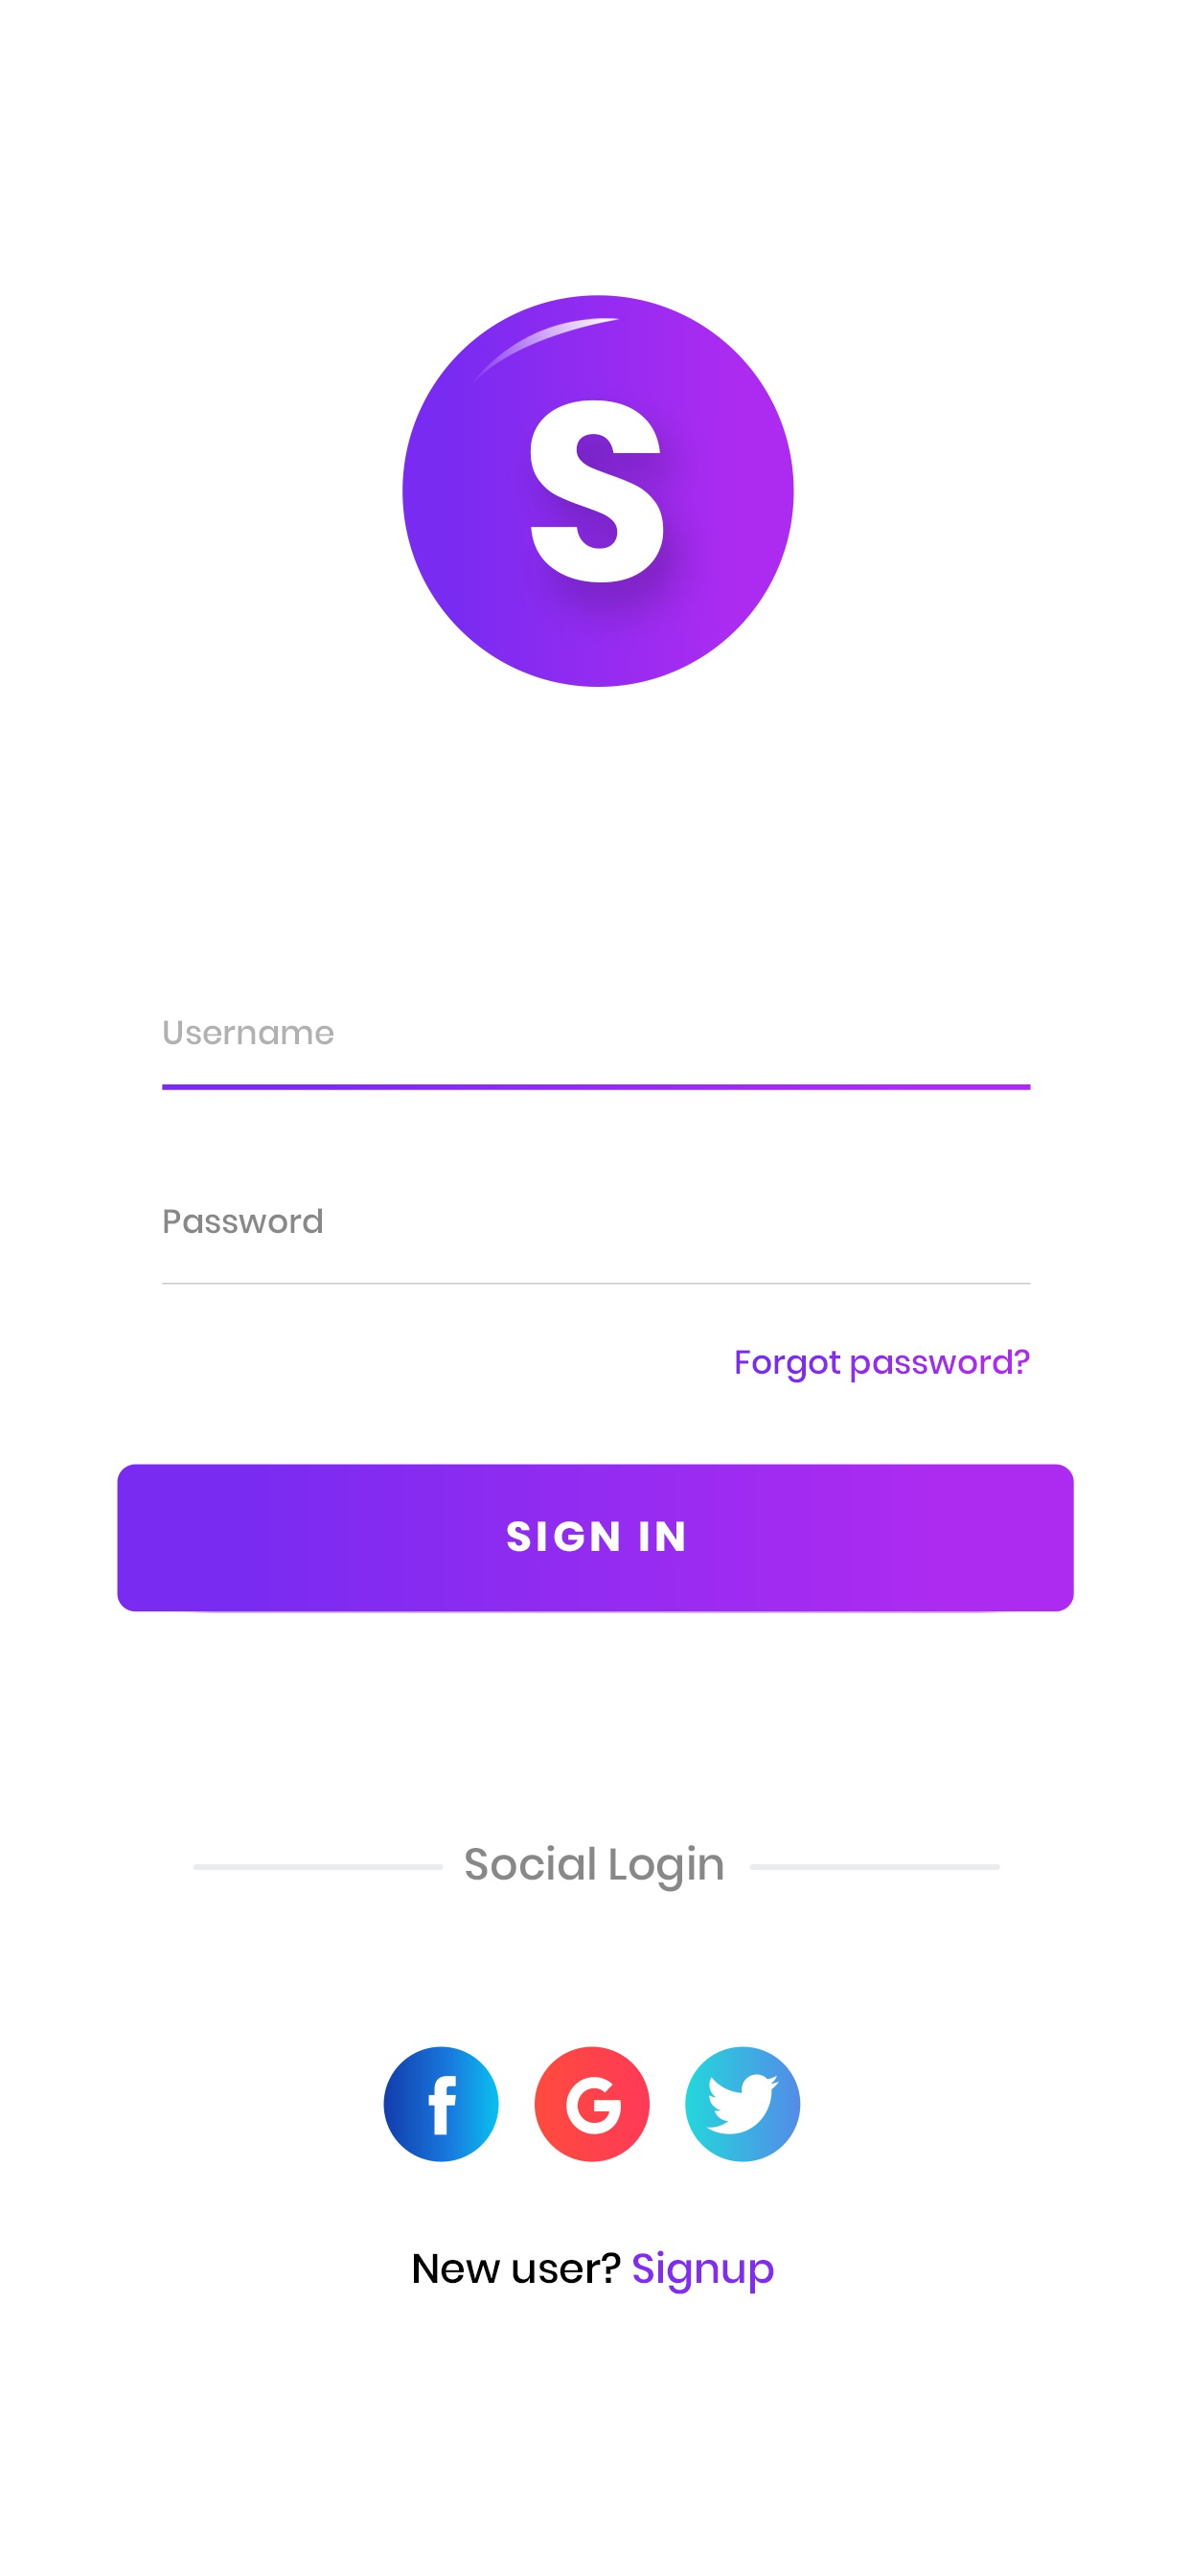EditText: (163, 1207, 1032, 1286), (163, 1019, 1032, 1091)
Icon: (383, 2047, 500, 2164), (534, 2047, 651, 2164), (685, 2047, 800, 2162)
Image: (401, 294, 796, 690)
Text: (465, 1843, 725, 1893), (735, 1347, 1031, 1385), (414, 2251, 621, 2285), (633, 2249, 776, 2295), (163, 1019, 335, 1046), (164, 1207, 324, 1235)
TextButton: (117, 1462, 1075, 1613)
